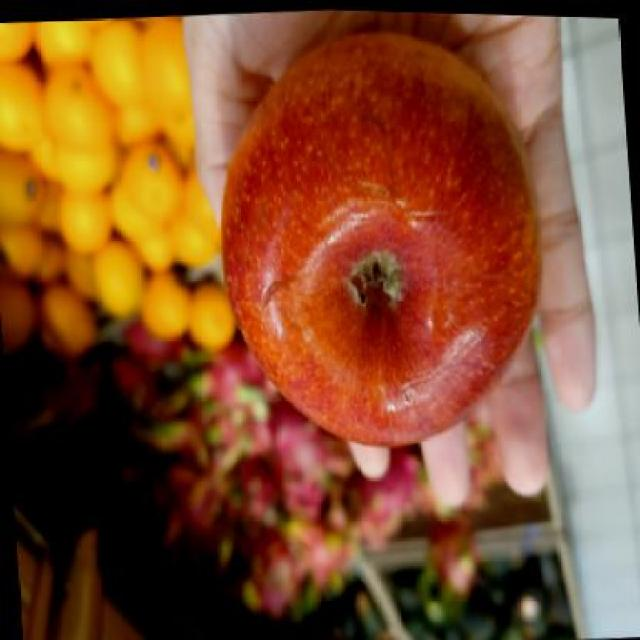Fresh Apple: (226, 48, 539, 446)
